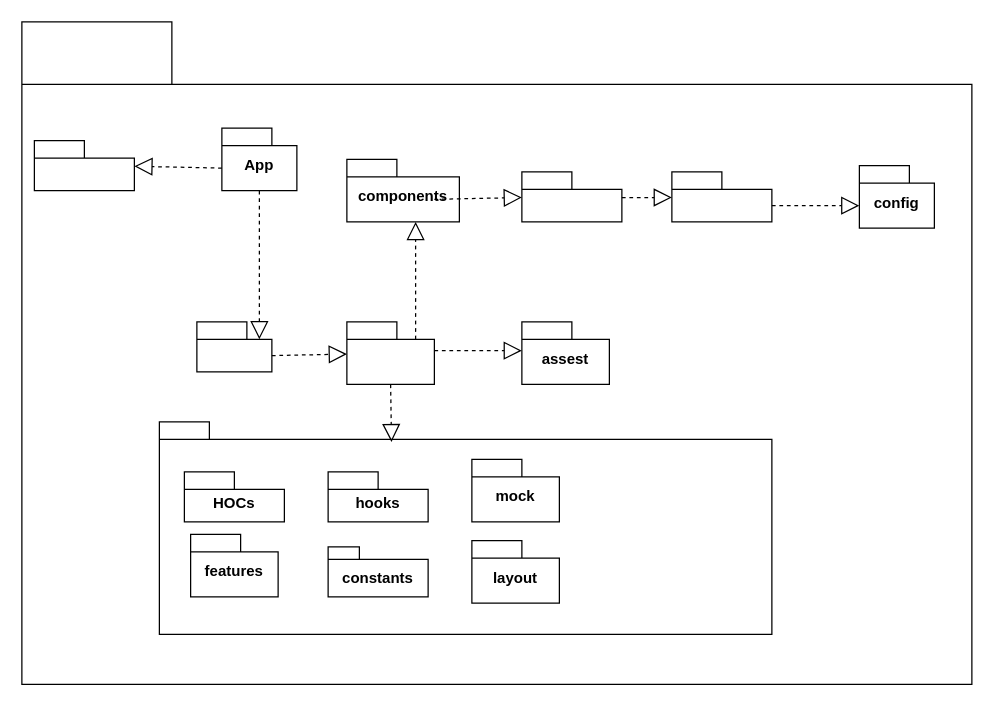
Some shapes in this 994 by 706 pixel diagram are drawn without their labels. Here are the shapes that lost their labels. From the top down, the centre of each, then its label:
point 83,165: stores
point 571,196: api
point 721,196: utils
point 234,346: routes
point 390,352: pages
